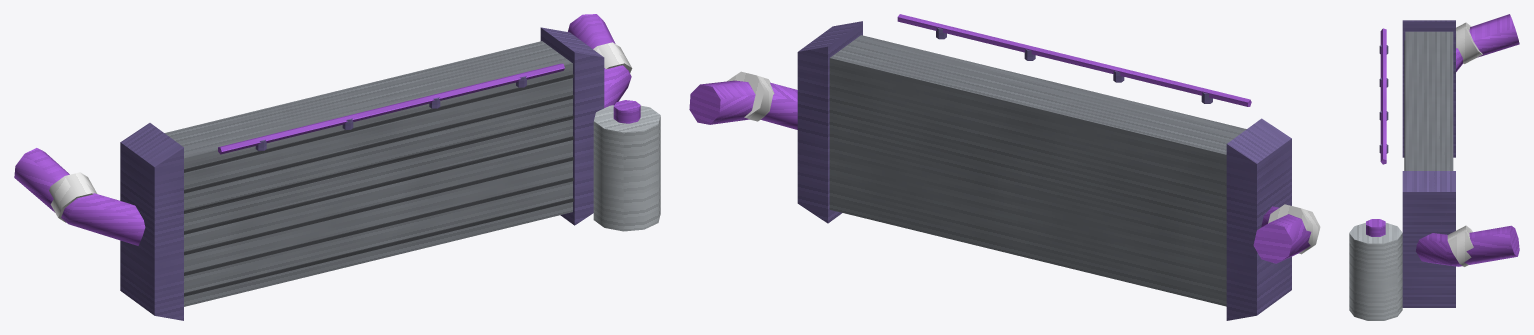
The model's file is intercooler_n5.glb.
The picture shows the model from 3 angles, left to right: view 1: azimuth 30°, elevation 25°; view 2: azimuth 150°, elevation 25°; view 3: azimuth 270°, elevation 25°; orthographic projection. The views are drawn at different scales.
Visible parts, largest first — view 1: intercooler_n5; view 2: intercooler_n5; view 3: intercooler_n5.
Boxes of the visible parts, <box> form: intercooler_n5: <box>14,14,660,320</box>; intercooler_n5: <box>689,14,1320,320</box>; intercooler_n5: <box>1349,14,1519,320</box>.
Size of the model in its own units: 0.9963 by 0.2857 by 0.3193.
3 materials, 3 textured.
